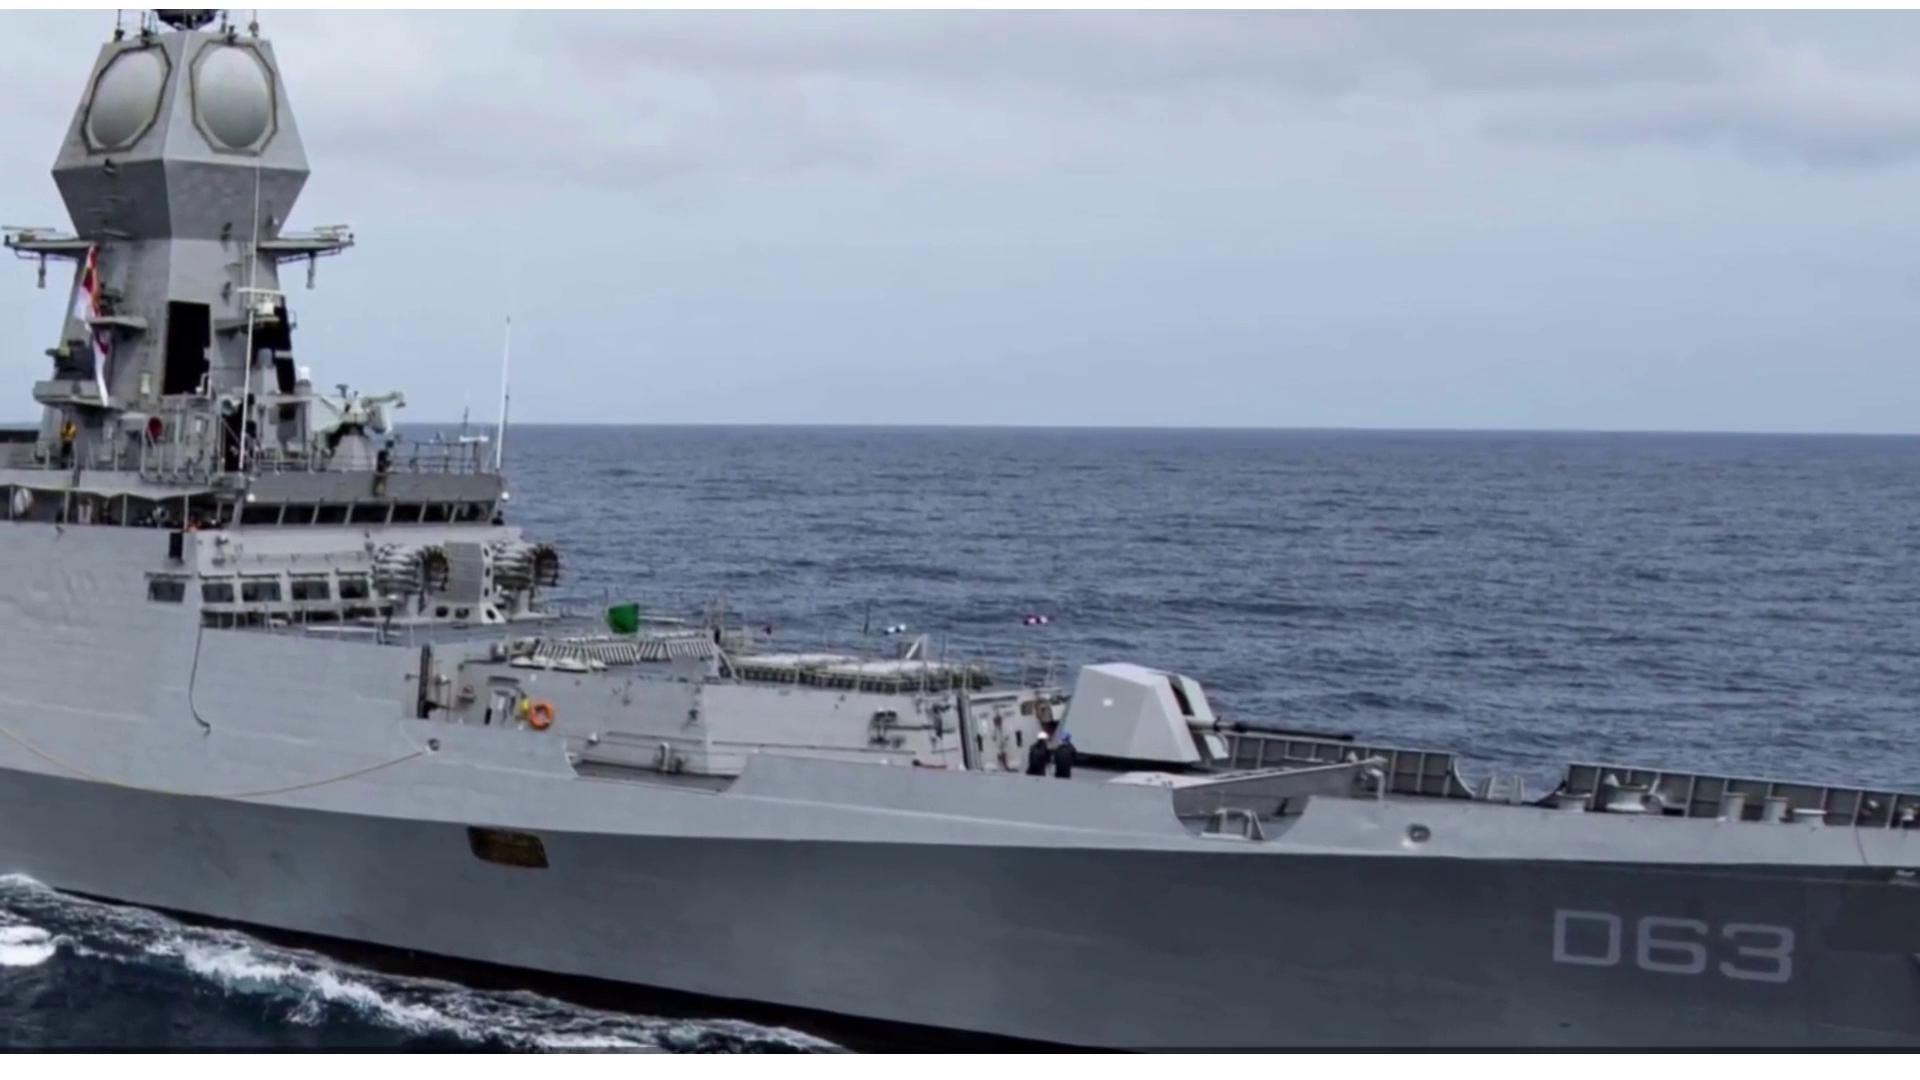OCR: (1535, 898, 1812, 1001)
